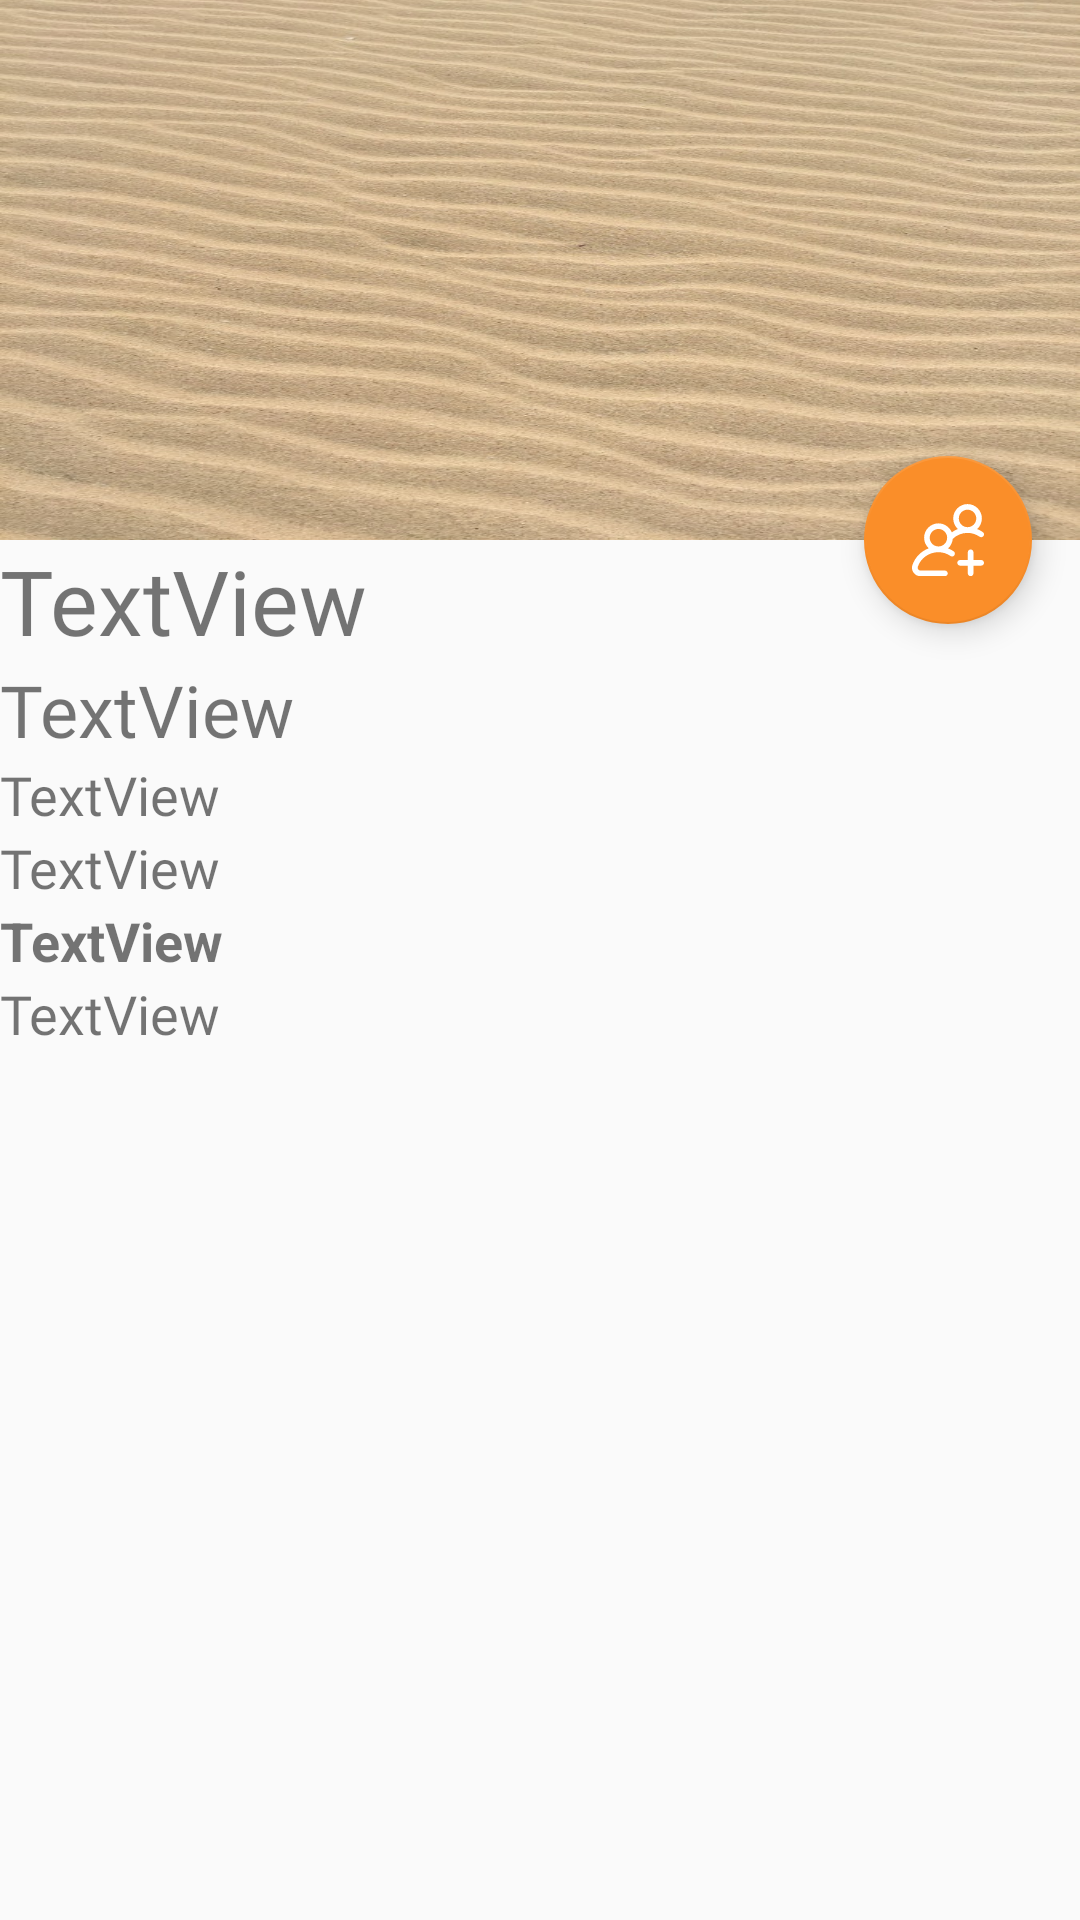

Named icons in this screenshot (1080x1920) and their centers, (x=x, y=y):
add group: (x=948, y=540)
